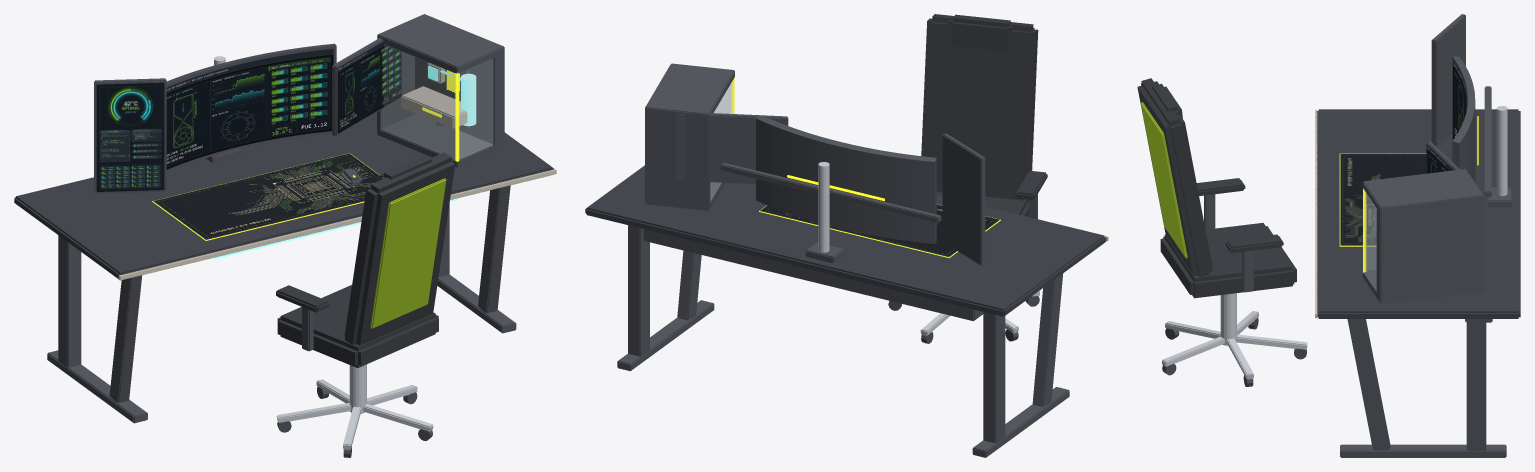
The model's file is lab_workstation.glb.
3 renders of one model, left to right at view 1: azimuth 30°, elevation 25°; view 2: azimuth 150°, elevation 25°; view 3: azimuth 270°, elevation 25°, orthographic. The views are drawn at different scales.
Visible parts, largest first — view 1: Lab_DeskTop, Lab_Monitor_CenterScreen, Lab_DeskMatSurface, Lab_Monitor_LeftScreen, Chair_Backrest, Chair_BackAccent, PC_GlassLeft, Chair_Seat, PC_TopCap, Lab_Monitor_RightScreen, PC_GlassFront, PC_BottomBase (+18 smaller); view 2: Lab_DeskTop, Chair_Backrest, Lab_Monitor_CenterShell, Lab_Monitor_LeftFrame, Lab_CableTray, PC_RearPanel, Lab_Monitor_RightFrame, PC_TopCap, Lab_LegRear_L, Lab_LegRear_R, Lab_LegFront_L, Lab_MonCrossBar (+11 smaller); view 3: Lab_DeskTop, PC_RightPanel, Chair_Seat, Chair_Backrest, Lab_DeskMatSurface, PC_TopCap, Lab_Monitor_LeftFrame, Lab_LegRear_R, Lab_LegFront_R, Chair_BackAccent, Lab_LegFoot_R, Lab_Monitor_CenterShell (+18 smaller).
Part boxes in pixels (<box>): Lab_DeskTop: <box>14,112,553,279</box>; Lab_Monitor_CenterScreen: <box>166,49,333,169</box>; Lab_DeskMatSurface: <box>154,153,380,239</box>; Lab_Monitor_LeftScreen: <box>96,82,164,191</box>; Chair_Backrest: <box>344,152,455,345</box>; Chair_BackAccent: <box>370,178,446,328</box>; PC_GlassLeft: <box>380,44,455,159</box>; Chair_Seat: <box>277,285,438,367</box>; PC_TopCap: <box>377,14,504,73</box>; Lab_Monitor_RightScreen: <box>337,41,401,133</box>; PC_GlassFront: <box>459,58,493,159</box>; PC_BottomBase: <box>377,114,504,167</box>; Lab_DeskTop: <box>585,165,1105,316</box>; Chair_Backrest: <box>921,14,1038,200</box>; Lab_Monitor_CenterShell: <box>756,115,936,243</box>; Lab_Monitor_LeftFrame: <box>942,133,985,265</box>; Lab_CableTray: <box>643,229,983,321</box>; PC_RearPanel: <box>645,113,710,205</box>; Lab_Monitor_RightFrame: <box>676,113,788,184</box>; PC_TopCap: <box>645,63,734,120</box>; Lab_LegRear_L: <box>983,312,1005,443</box>; Lab_LegRear_R: <box>628,225,649,356</box>; Lab_LegFront_L: <box>1032,273,1063,406</box>; Lab_MonCrossBar: <box>720,162,941,222</box>; Lab_DeskTop: <box>1316,109,1520,318</box>; PC_RightPanel: <box>1376,201,1483,298</box>; Chair_Seat: <box>1160,223,1296,298</box>; Chair_Backrest: <box>1137,78,1213,276</box>; Lab_DeskMatSurface: <box>1341,154,1426,245</box>; PC_TopCap: <box>1362,169,1483,213</box>; Lab_Monitor_LeftFrame: <box>1431,14,1465,146</box>; Lab_LegRear_R: <box>1466,319,1486,451</box>; Lab_LegFront_R: <box>1347,319,1390,450</box>; Chair_BackAccent: <box>1141,102,1187,258</box>; Lab_LegFoot_R: <box>1340,444,1506,457</box>; Lab_Monitor_CenterShell: <box>1452,56,1475,182</box>.
Bounding box in the file's own units: 2.09 × 1.32 × 1.65.
12 materials, 3 textured.
